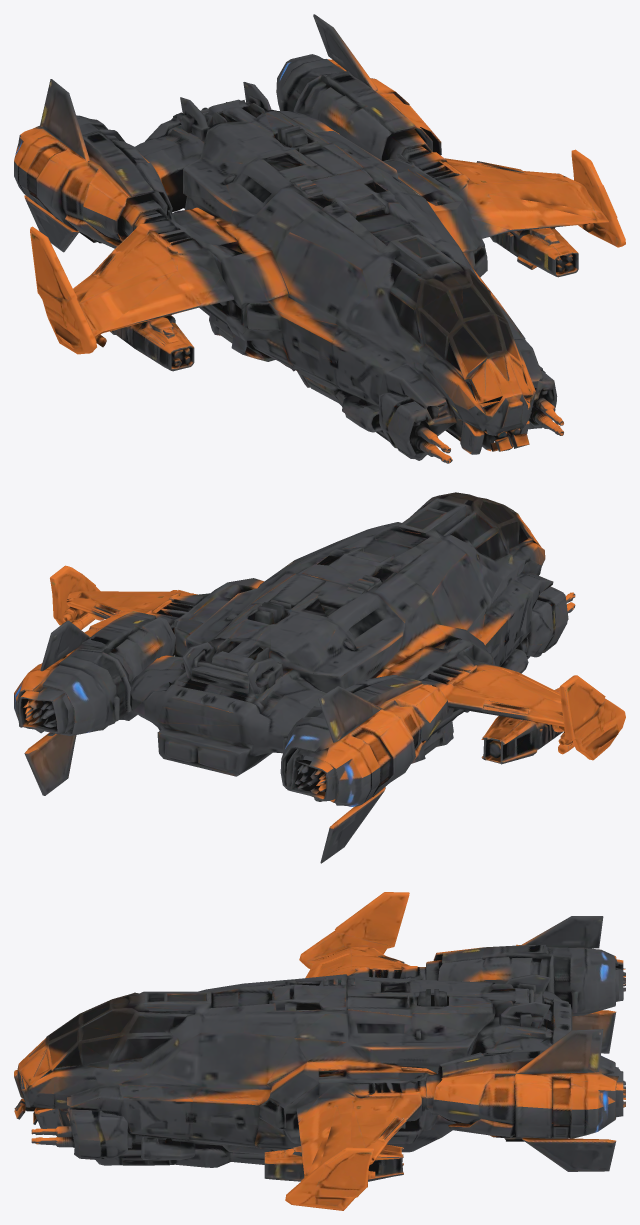
Rendered from saturn-starter.glb.
3 renders of one model, top to bottom at view 1: azimuth 30°, elevation 25°; view 2: azimuth 150°, elevation 25°; view 3: azimuth 270°, elevation 25°, orthographic. The views are drawn at different scales.
Parts seen in each view (by area): view 1: Hull_LOD0; view 2: Hull_LOD0; view 3: Hull_LOD0.
Part boxes in pixels (x1,y1,x2,y2): Hull_LOD0: [14, 14, 625, 463]; Hull_LOD0: [14, 492, 625, 863]; Hull_LOD0: [14, 892, 625, 1210].
Bounding box in the file's own units: 7.41 × 2.61 × 8.33.
Materials: 1 (1 with a texture image).
